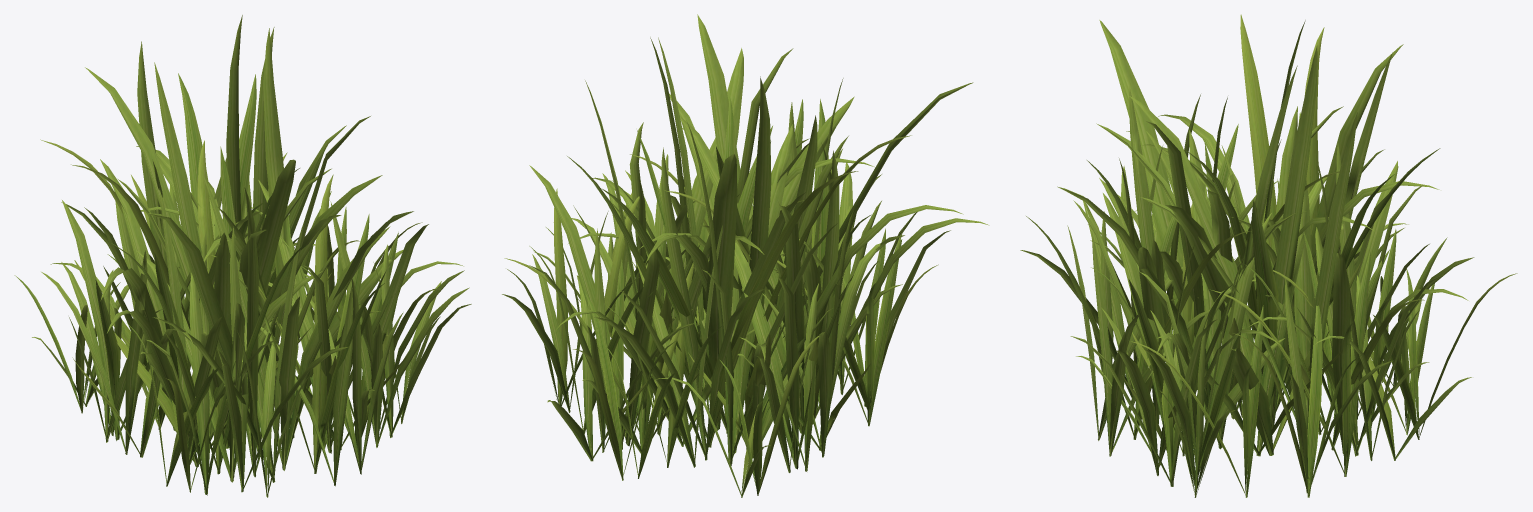
Rendered from small_grass.glb.
The picture shows the model from 3 angles, left to right: view 1: azimuth 30°, elevation 25°; view 2: azimuth 150°, elevation 25°; view 3: azimuth 270°, elevation 25°; orthographic projection. The views are drawn at different scales.
Visible parts, largest first — view 1: _(Loose Entity); view 2: _(Loose Entity); view 3: _(Loose Entity).
Part boxes in pixels (x1,y1,x2,y2): _(Loose Entity): [14, 15, 471, 497]; _(Loose Entity): [502, 14, 989, 497]; _(Loose Entity): [1020, 14, 1517, 497].
Bounding box in the file's own units: 0.1332 × 0.1283 × 0.1438.
Materials: 3 (3 with a texture image).
